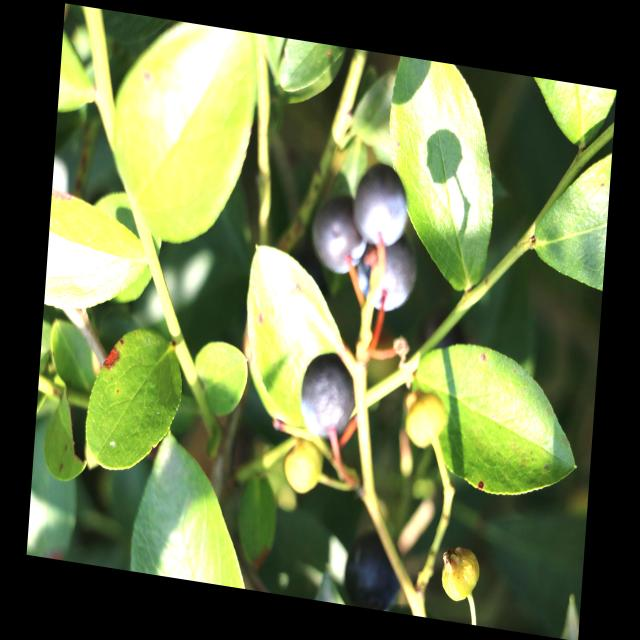blueberry: (344, 155, 422, 260), (294, 344, 364, 444), (352, 226, 425, 319), (338, 518, 406, 613), (301, 188, 371, 280)
blueberry-unripe: (403, 387, 452, 453), (437, 540, 485, 604), (284, 435, 324, 496)
